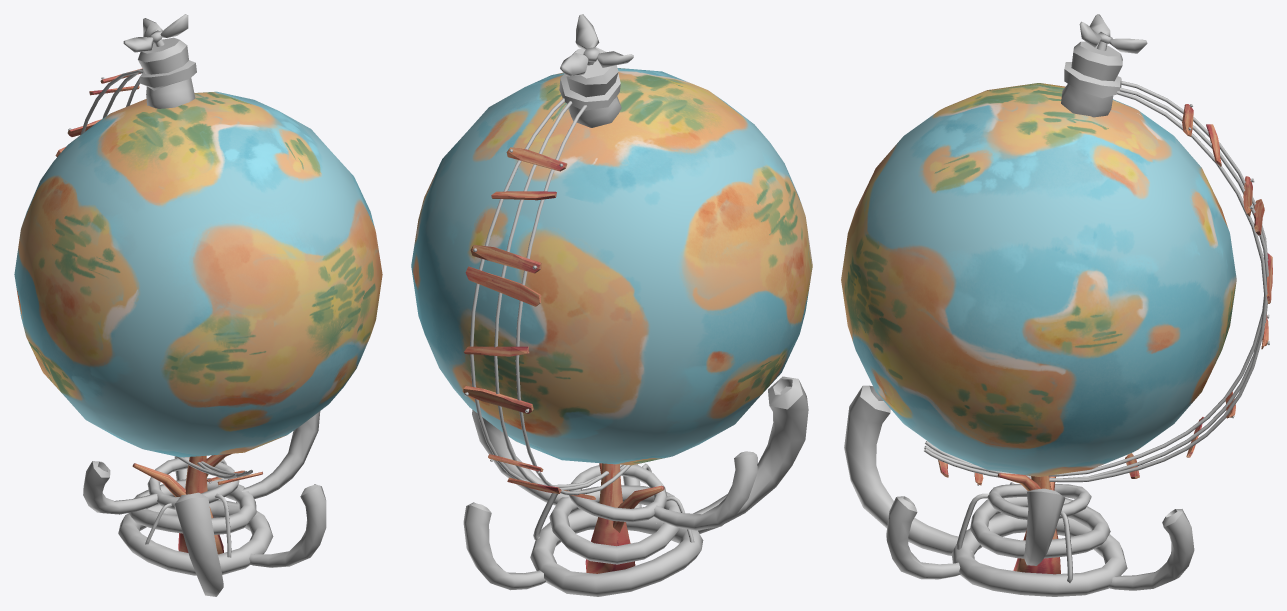
Rendered from m_plnet.fbx.
3 renders of one model, left to right at view 1: azimuth 30°, elevation 25°; view 2: azimuth 150°, elevation 25°; view 3: azimuth 270°, elevation 25°, orthographic. The views are drawn at different scales.
Parts seen in each view (by area): view 1: m_plnet; view 2: m_plnet; view 3: m_plnet.
Boxes of the visible parts, left/top/right/bottom form: m_plnet: left=14, top=14, right=382, bottom=596; m_plnet: left=411, top=14, right=812, bottom=596; m_plnet: left=841, top=14, right=1272, bottom=596.
Bounding box in the file's own units: 1219 × 1905 × 1331.
